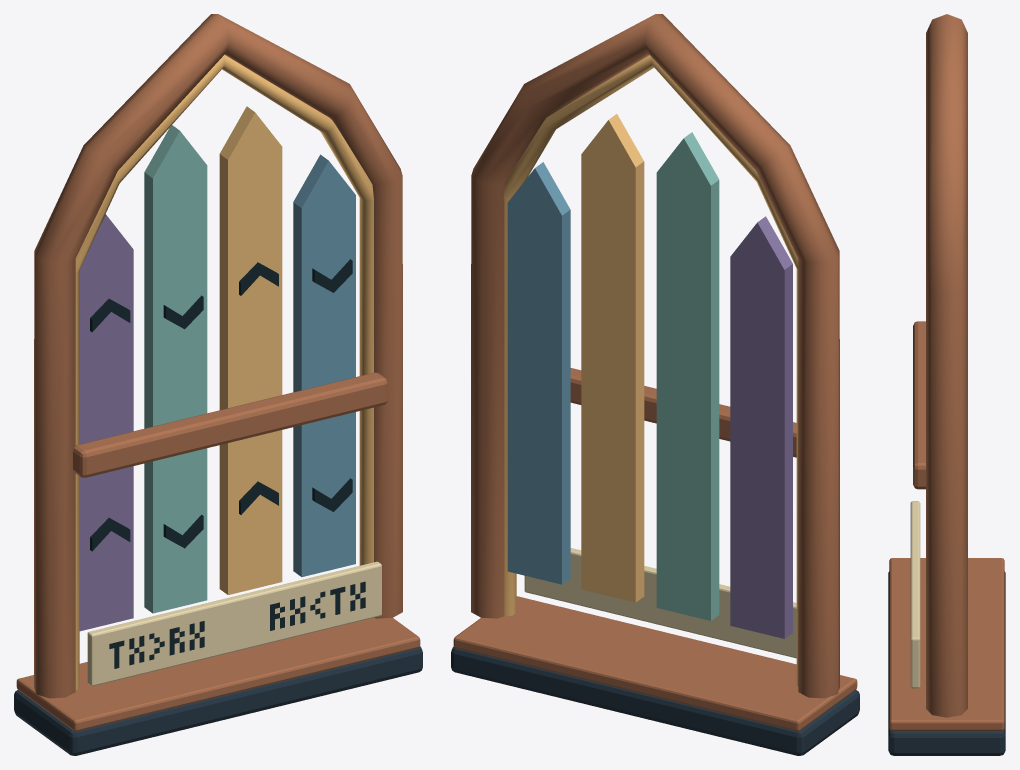
3 views of the same model, side by side, from view 1: azimuth 30°, elevation 25°; view 2: azimuth 150°, elevation 25°; view 3: azimuth 270°, elevation 25° (orthographic). The views are drawn at different scales.
Visible parts, largest first — view 1: PR053 enamel and hardware; view 2: PR053 enamel and hardware; view 3: PR053 enamel and hardware.
Part boxes in pixels (left/top/right/bottom): PR053 enamel and hardware: left=14, top=14, right=422, bottom=755; PR053 enamel and hardware: left=451, top=14, right=859, bottom=755; PR053 enamel and hardware: left=888, top=14, right=1005, bottom=755.
Bounding box in the file's own units: 1.12 × 2 × 0.3221.
